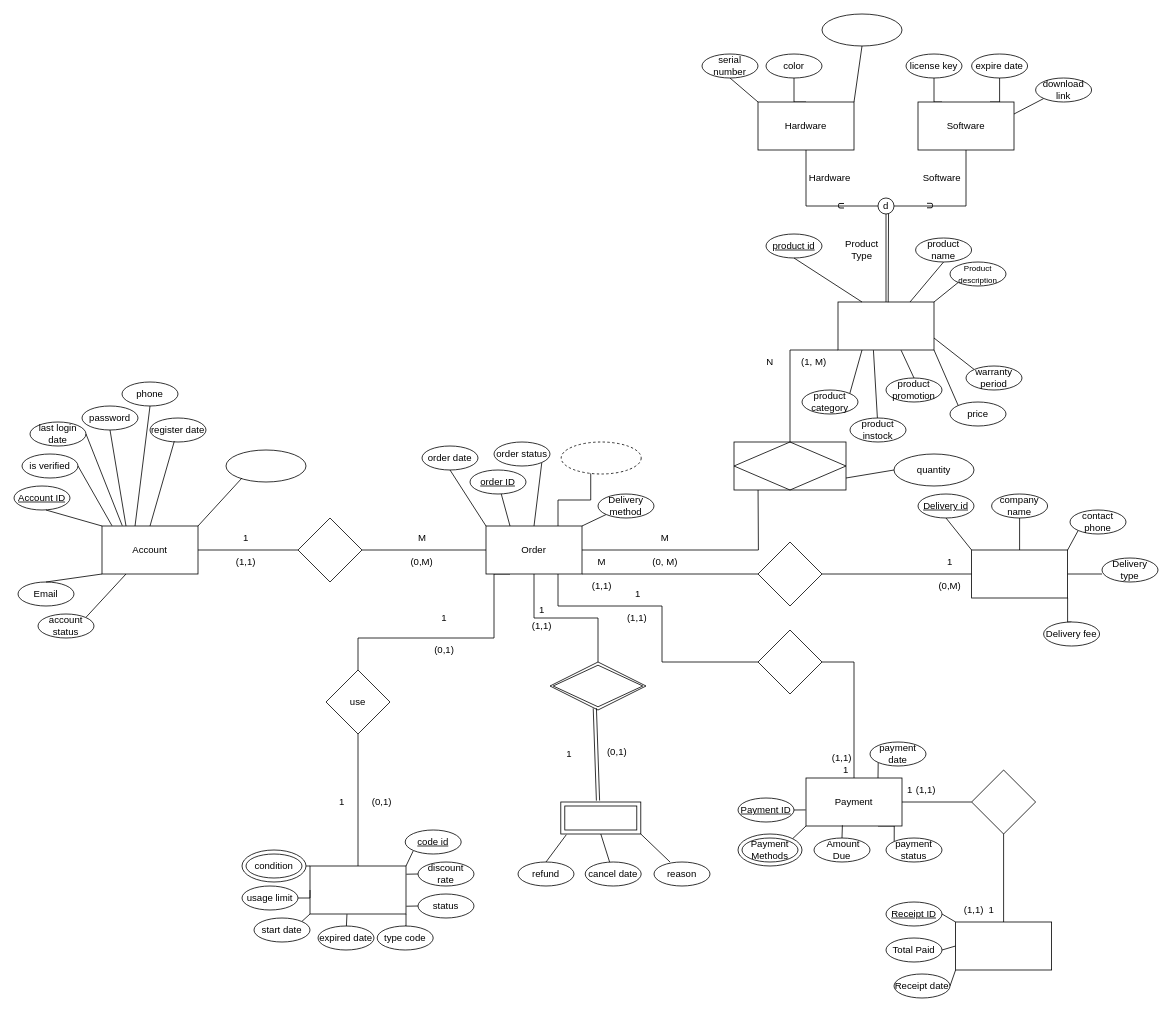
This 1172x1012 diagram has some shape labels left out. Each missing label, with the box of its shape:
address: (225, 449, 306, 482)
Cancel Order: (560, 801, 641, 834)
create: (297, 517, 362, 582)
Delivery: (971, 549, 1068, 598)
generate: (971, 769, 1036, 834)
has: (733, 441, 846, 490)
make: (549, 661, 646, 710)
pay: (757, 629, 822, 694)
power consumption: (821, 13, 902, 46)
Product: (837, 301, 934, 350)
Promotion code: (309, 865, 406, 914)
Receipt: (955, 921, 1052, 970)
ship: (757, 541, 822, 606)
total amount: (560, 441, 641, 474)
